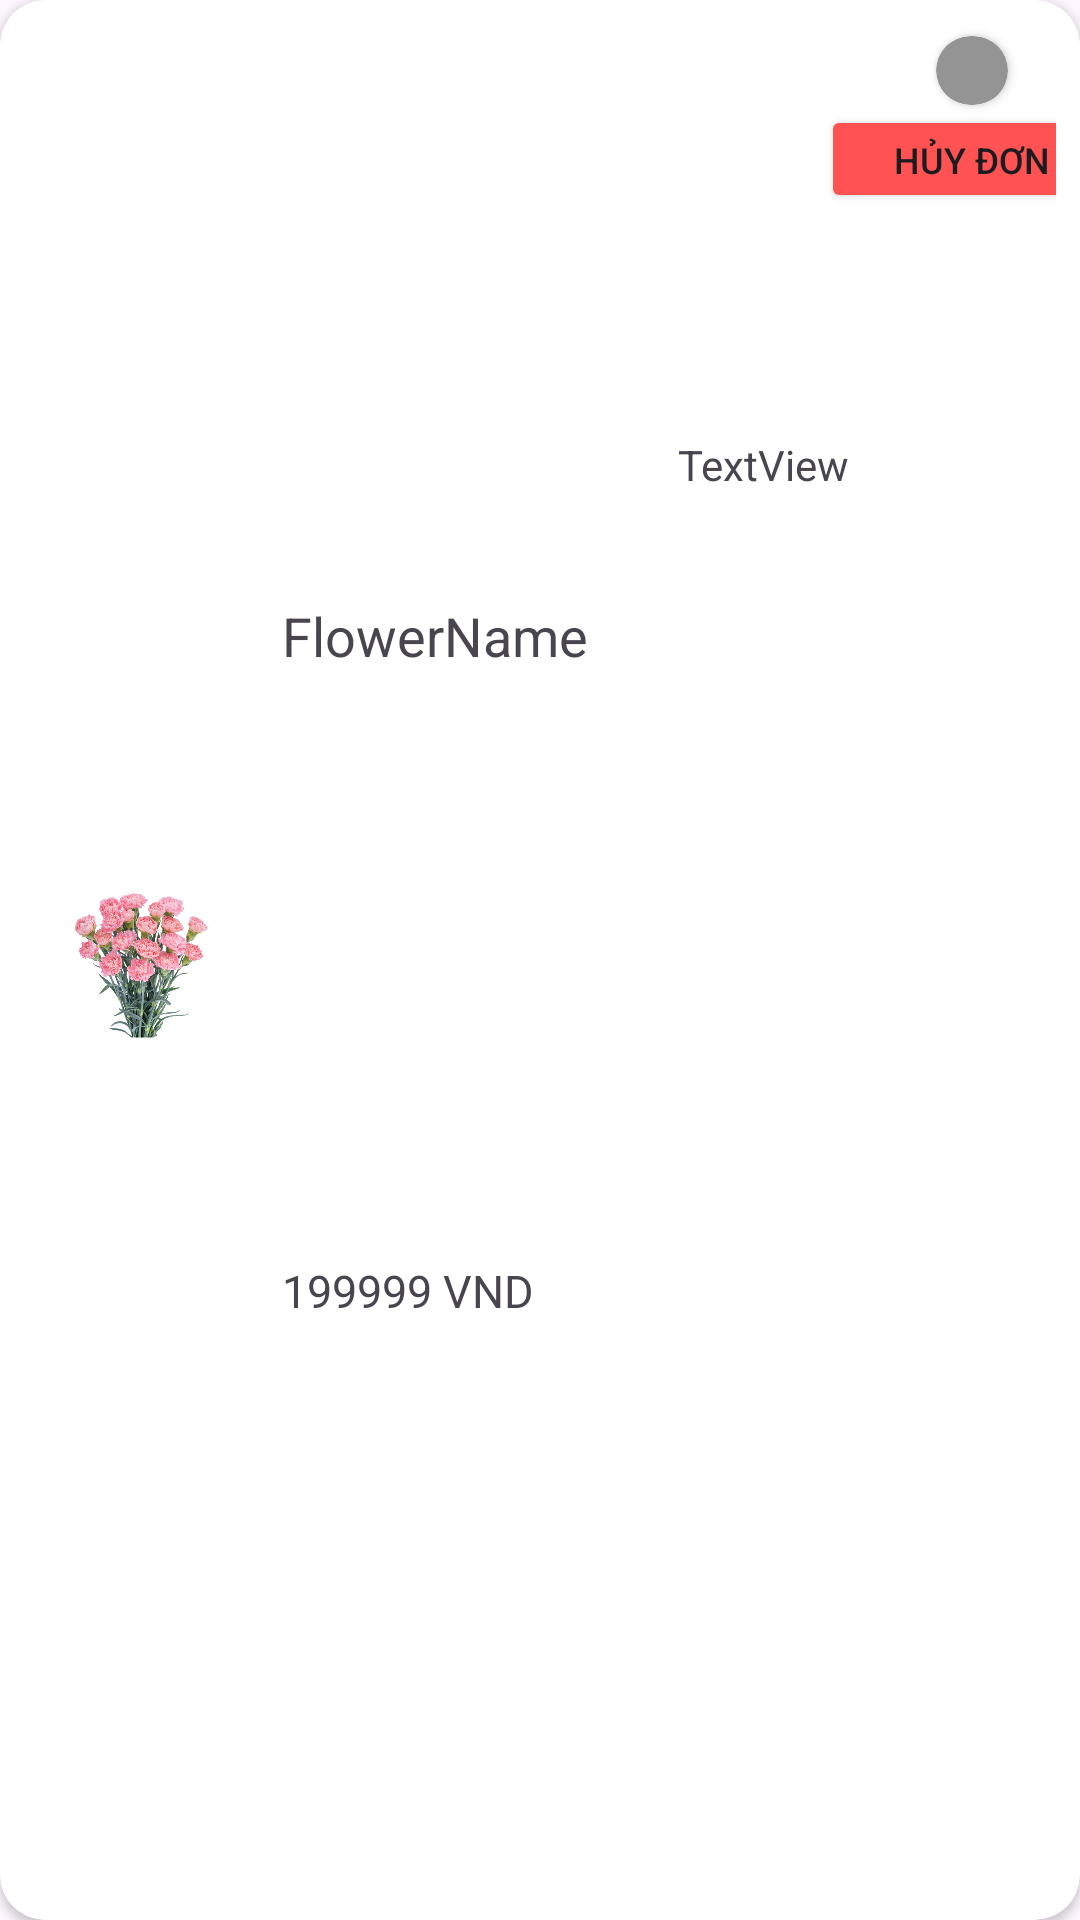

Icon bounding boxes for this 1080x1920 phone screenshot, format [x1=x1, y1=y1, x2=x2, y2=y2]:
hoacamchuong: [x1=75, y1=893, x2=208, y2=1038]
